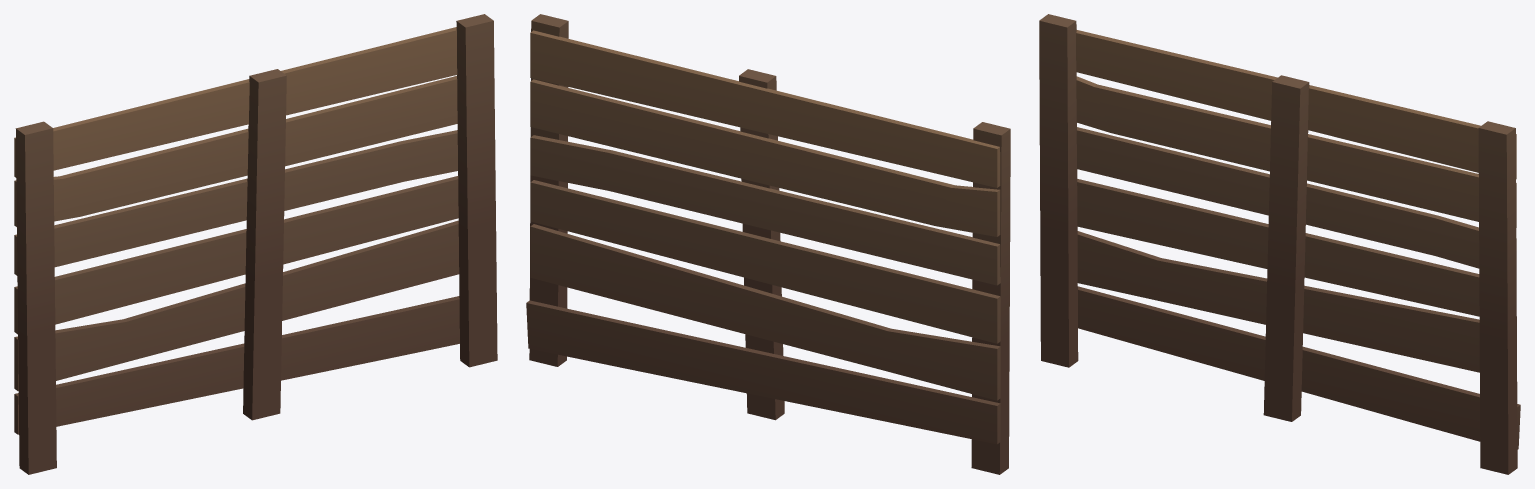
The model's file is Mines Wood Fence2 4M.glb.
3 renders of one model, left to right at view 1: azimuth 30°, elevation 25°; view 2: azimuth 150°, elevation 25°; view 3: azimuth 330°, elevation 25°, orthographic.
Visible parts, largest first — view 1: Mines Wood Fence2 4M; view 2: Mines Wood Fence2 4M; view 3: Mines Wood Fence2 4M.
Part boxes in pixels (x1,y1,x2,y2): Mines Wood Fence2 4M: [14, 14, 497, 474]; Mines Wood Fence2 4M: [526, 14, 1010, 474]; Mines Wood Fence2 4M: [1039, 14, 1520, 474].
Size of what is drawn, in the model's own units: 3.84 by 2.64 by 0.1883.
1 material, 1 textured.
